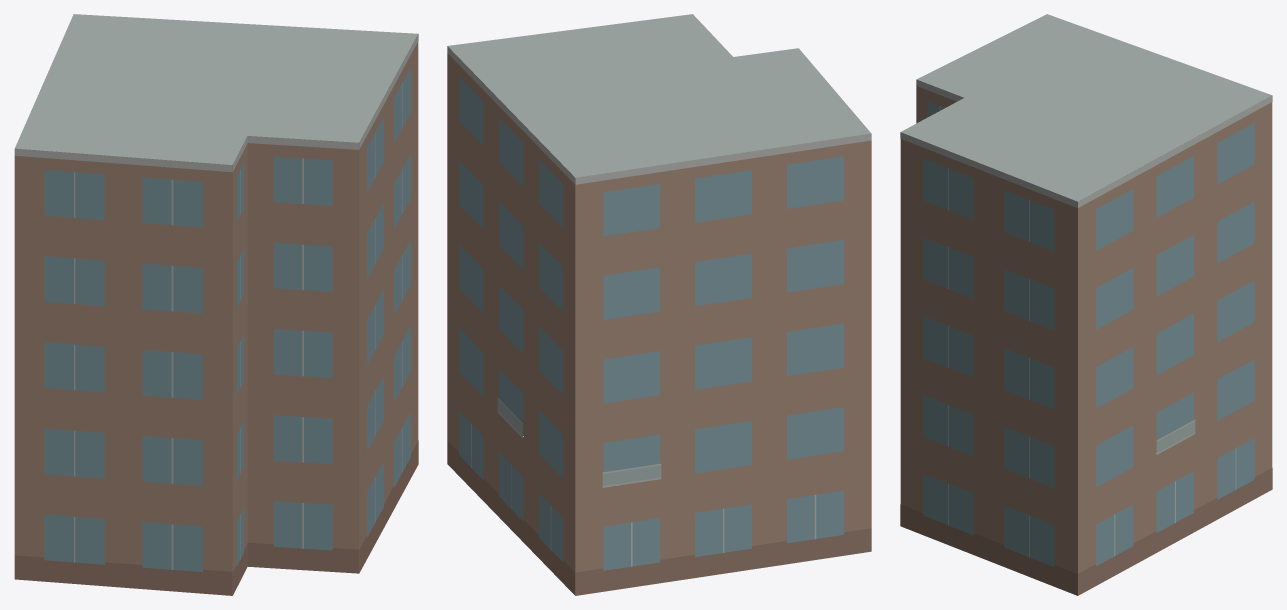
File: survey-upis-32782558.glb
3 renders of one model, left to right at view 1: azimuth 30°, elevation 25°; view 2: azimuth 150°, elevation 25°; view 3: azimuth 270°, elevation 25°, orthographic. The views are drawn at different scales.
Visible parts, largest first — view 1: survey-upis-32782558.tmp; view 2: survey-upis-32782558.tmp; view 3: survey-upis-32782558.tmp.
Boxes of the visible parts, x1,y1,x2,y2 form: survey-upis-32782558.tmp: (14,14,418,595); survey-upis-32782558.tmp: (447,14,871,595); survey-upis-32782558.tmp: (900,14,1272,595).
Bounding box in the file's own units: 15.02 × 14.7 × 12.58.
